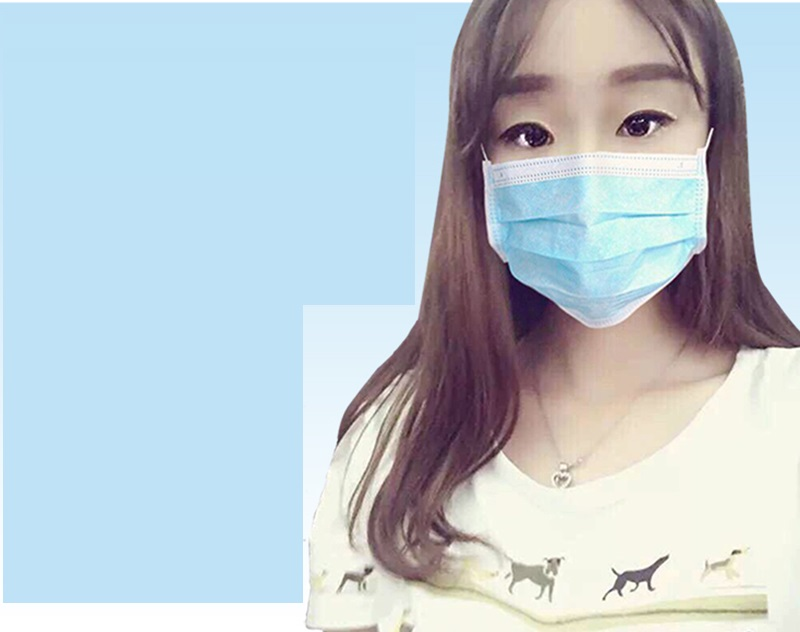face_mask: (475, 2, 715, 327)
